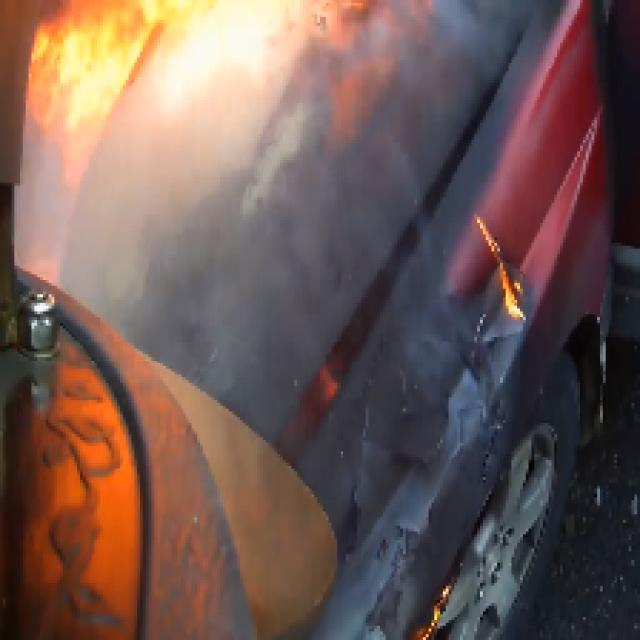Fire: (14, 0, 454, 166), (474, 202, 549, 334)
Smoke: (243, 109, 483, 548)
